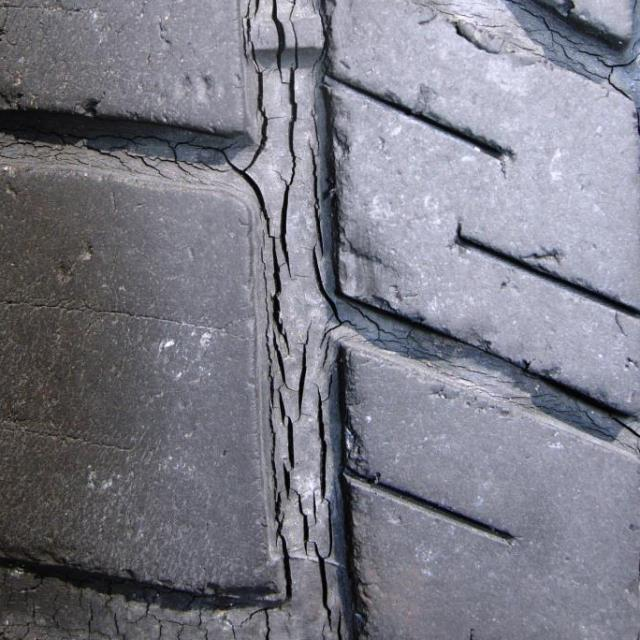Cracks: (0, 0, 639, 639), (429, 0, 639, 136)
